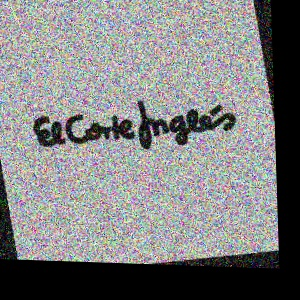corte_ingles: (225, 37, 260, 129)
